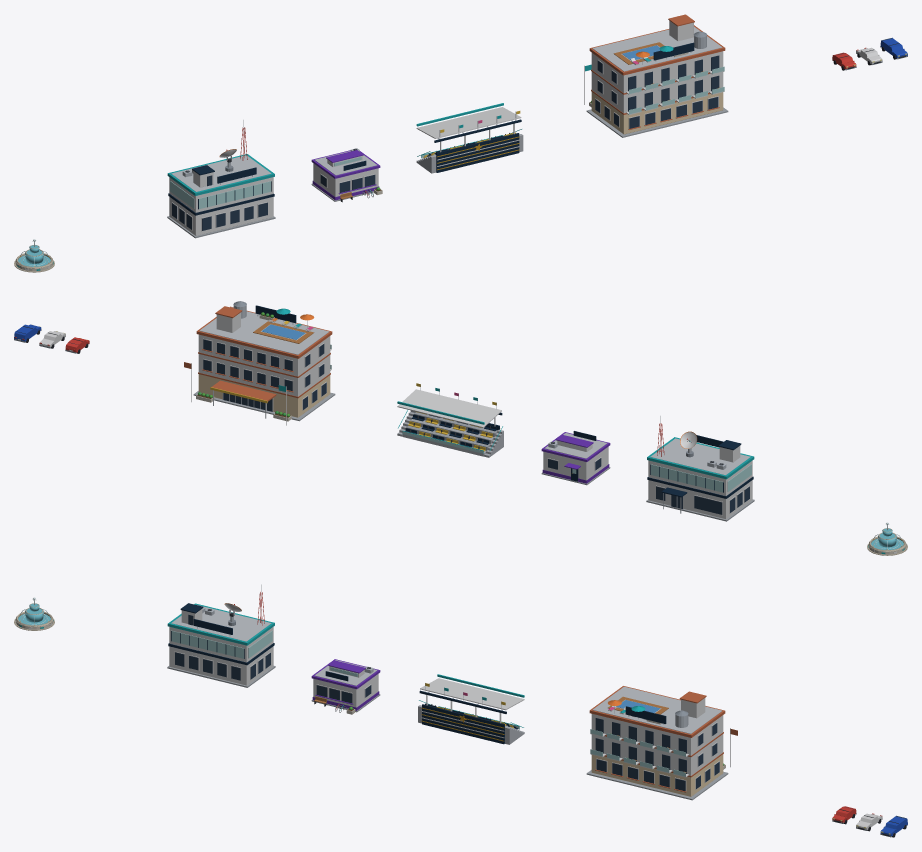
Rendered from skyport-landside.glb.
3 renders of one model, top to bottom at view 1: azimuth 30°, elevation 25°; view 2: azimuth 150°, elevation 25°; view 3: azimuth 330°, elevation 25°, orthographic.
Parts seen in each view (by area): view 1: sp_hotel_mesh, sp_ops_mesh, sp_grandstand_mesh, sp_crewhouse_mesh, sp_fountain_mesh; view 2: sp_hotel_mesh, sp_ops_mesh, sp_grandstand_mesh, sp_crewhouse_mesh, sp_fountain_mesh; view 3: sp_hotel_mesh, sp_ops_mesh, sp_grandstand_mesh, sp_crewhouse_mesh, sp_fountain_mesh.
Part boxes in pixels (x1,y1,x2,y2): sp_hotel_mesh: [584, 14, 728, 137]; sp_ops_mesh: [167, 120, 275, 238]; sp_grandstand_mesh: [416, 103, 523, 173]; sp_crewhouse_mesh: [311, 148, 382, 202]; sp_fountain_mesh: [14, 245, 54, 272]; sp_hotel_mesh: [184, 301, 335, 425]; sp_ops_mesh: [646, 416, 754, 521]; sp_grandstand_mesh: [397, 383, 503, 457]; sp_crewhouse_mesh: [541, 432, 610, 485]; sp_fountain_mesh: [867, 528, 907, 555]; sp_hotel_mesh: [586, 686, 737, 800]; sp_ops_mesh: [167, 584, 275, 687]; sp_grandstand_mesh: [418, 674, 524, 744]; sp_crewhouse_mesh: [311, 659, 380, 714]; sp_fountain_mesh: [14, 603, 54, 630].
Size of the model in its own units: 142 by 13.01 by 12.55.
